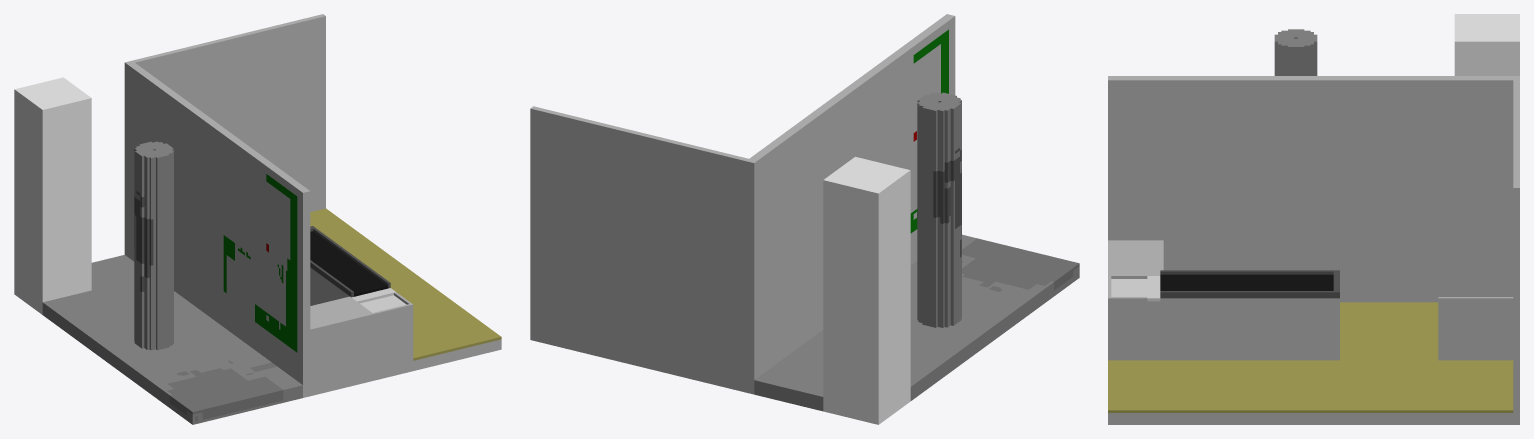
File: 2x2 first (1)-0.obj
3 renders of one model, left to right at view 1: azimuth 30°, elevation 25°; view 2: azimuth 150°, elevation 25°; view 3: azimuth 270°, elevation 25°, orthographic. The views are drawn at different scales.
Parts seen in each view (by area): view 1: 2x2 first (1)-0; view 2: 2x2 first (1)-0; view 3: 2x2 first (1)-0.
Boxes of the visible parts, x1=… form: 2x2 first (1)-0: x1=14, y1=14, x2=501, y2=424; 2x2 first (1)-0: x1=530, y1=14, x2=1079, y2=424; 2x2 first (1)-0: x1=1108, y1=14, x2=1519, y2=424.
Size of the model in its own units: 126 by 80 by 126.
1 material, 1 textured.
